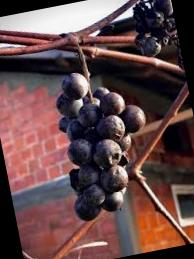Grape Rotten: (47, 60, 163, 222)
